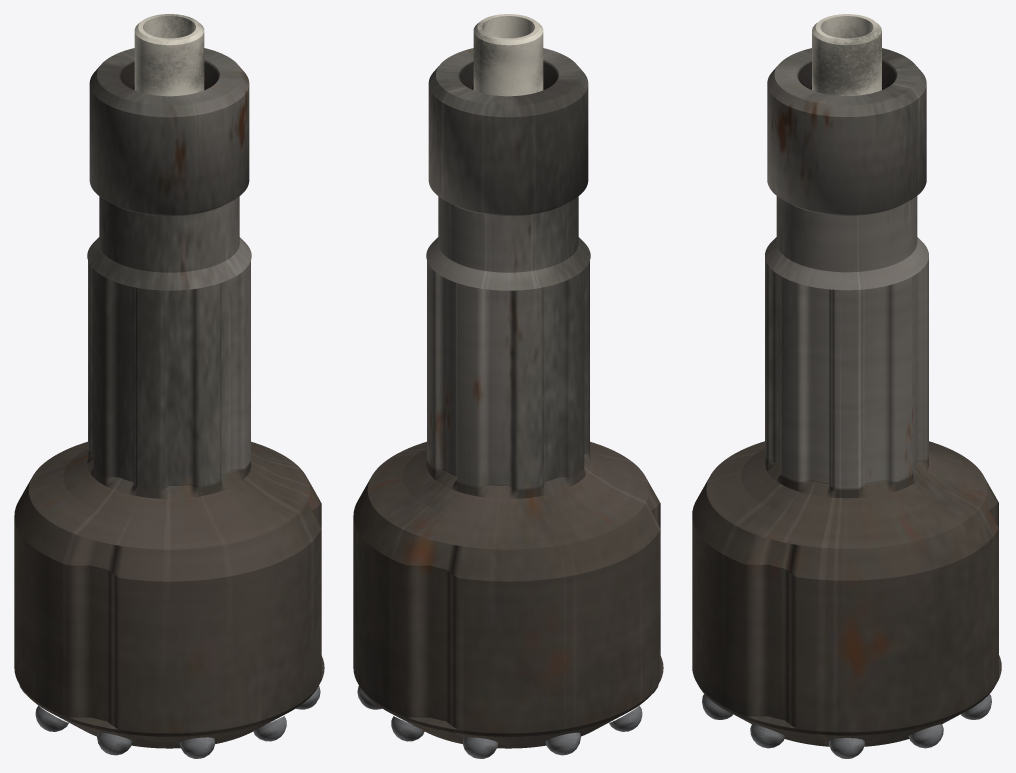
The model's file is SM_Bit_5_1_8po.glb.
The picture shows the model from 3 angles, left to right: view 1: azimuth 30°, elevation 25°; view 2: azimuth 150°, elevation 25°; view 3: azimuth 270°, elevation 25°; orthographic projection.
Visible parts, largest first — view 1: Bit_5_1_8po, Bit_5_1_8po_TubeDePied, Bit_5_1_8po_Boutons; view 2: Bit_5_1_8po, Bit_5_1_8po_TubeDePied, Bit_5_1_8po_Boutons; view 3: Bit_5_1_8po, Bit_5_1_8po_TubeDePied, Bit_5_1_8po_Boutons.
Boxes of the visible parts, bbox=[...] form: Bit_5_1_8po: bbox=[14, 48, 324, 748]; Bit_5_1_8po_TubeDePied: bbox=[134, 14, 204, 96]; Bit_5_1_8po_Boutons: bbox=[19, 685, 320, 758]; Bit_5_1_8po: bbox=[353, 48, 663, 748]; Bit_5_1_8po_TubeDePied: bbox=[473, 14, 543, 96]; Bit_5_1_8po_Boutons: bbox=[357, 685, 658, 758]; Bit_5_1_8po: bbox=[692, 48, 1001, 746]; Bit_5_1_8po_TubeDePied: bbox=[812, 14, 881, 95]; Bit_5_1_8po_Boutons: bbox=[702, 694, 991, 758].
Size of the model in its own units: 0.1302 by 0.3184 by 0.1302.
Materials: 3 (3 with a texture image).
